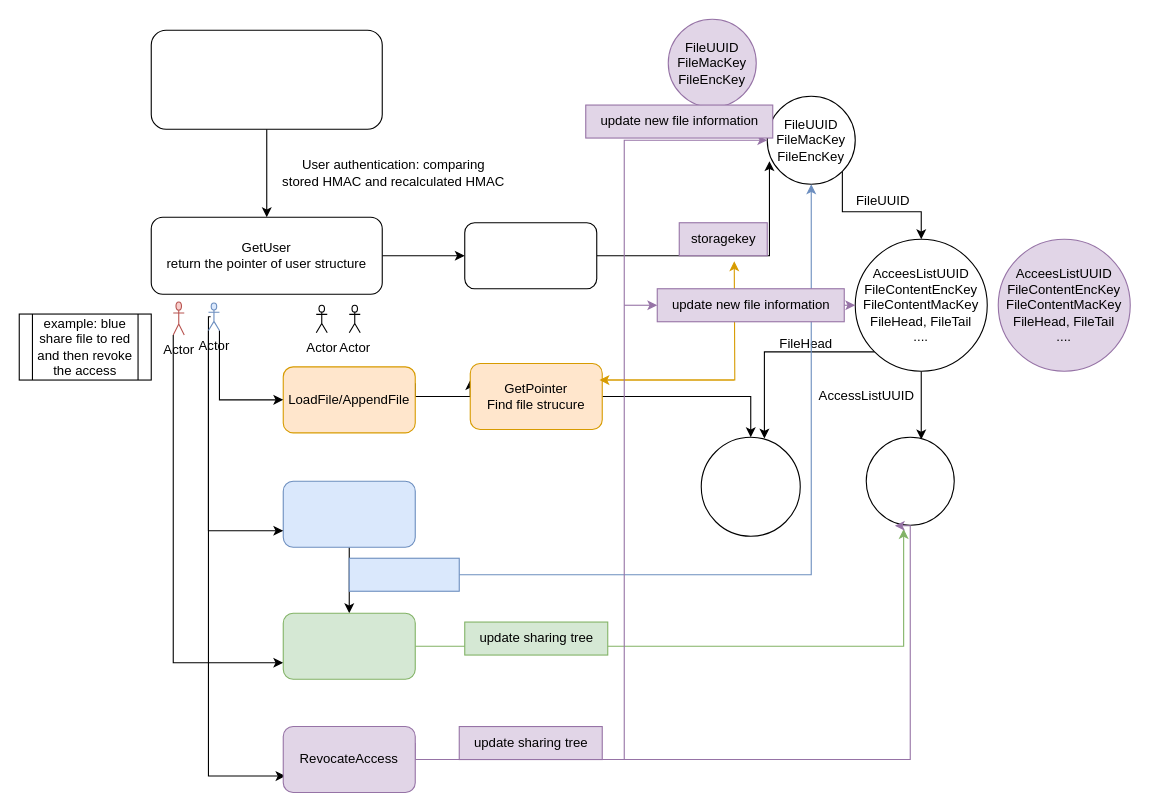
Image size: 1150x812. Some labels were removed from this diagram. Here are the shapes that lost their labels. From the top down, the box of each, then its label:
(150, 29, 382, 129): InitUser HMAC with key determined by username and password
(464, 222, 597, 289): StoreFile/
(700, 436, 800, 536): content block: head -> next -> next -> ... -> tail
(865, 436, 954, 525): Sharing tree
(282, 480, 415, 547): CreateInvitation
(348, 557, 459, 591): InviteLinkUUID
(282, 612, 415, 679): AcceptInvitation
